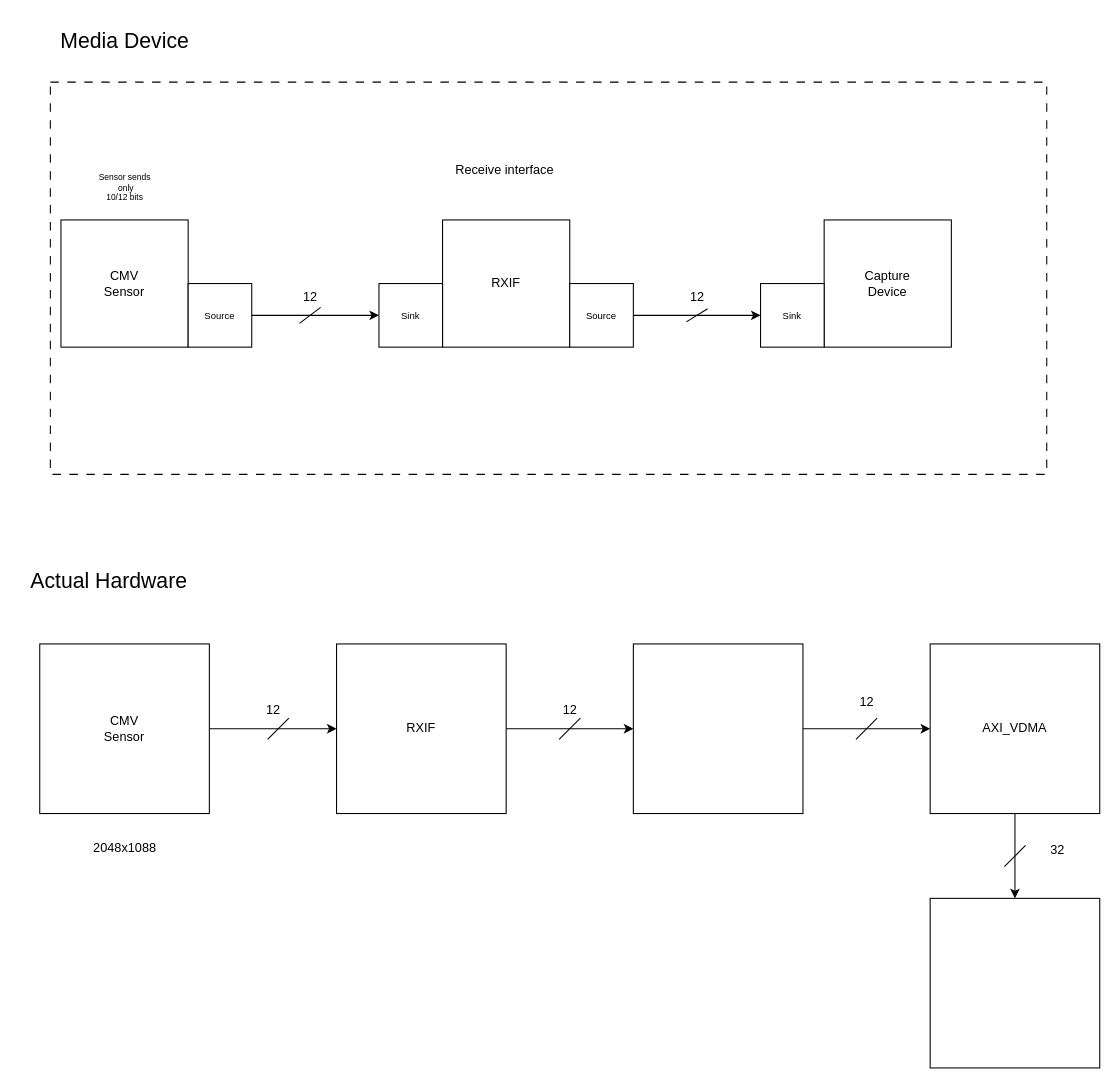
Image size: 1118x1087. Some labels were removed from this diagram. Here are the shapes that lost their labels. From the top down, the centre of each, then its label:
At point 717,728: "Video-In-AXIS-Out".
At point 1014,982: "Zynq Ultrascale+".
